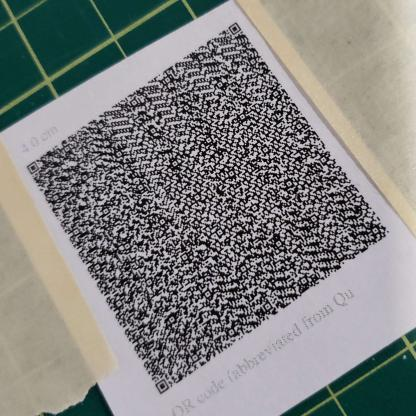qr: (24, 17, 395, 398)
